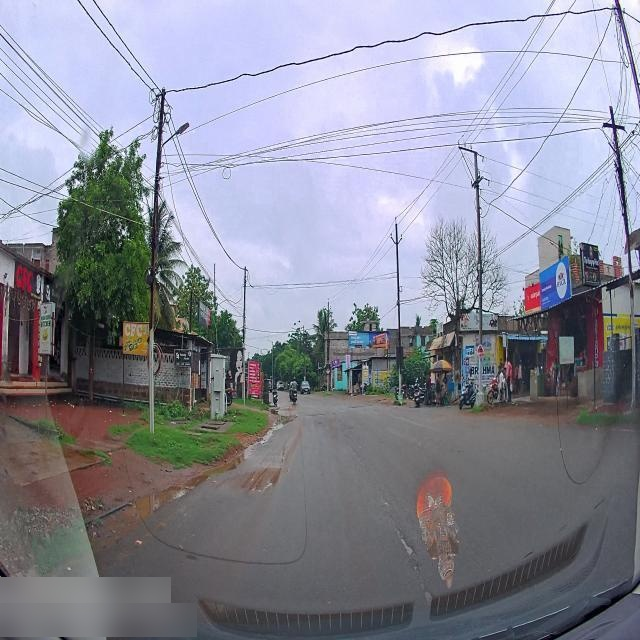pothole: (254, 417, 279, 452)
